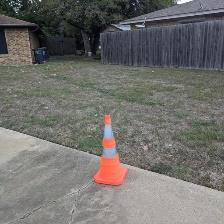traffic cone: (92, 113, 129, 186)
